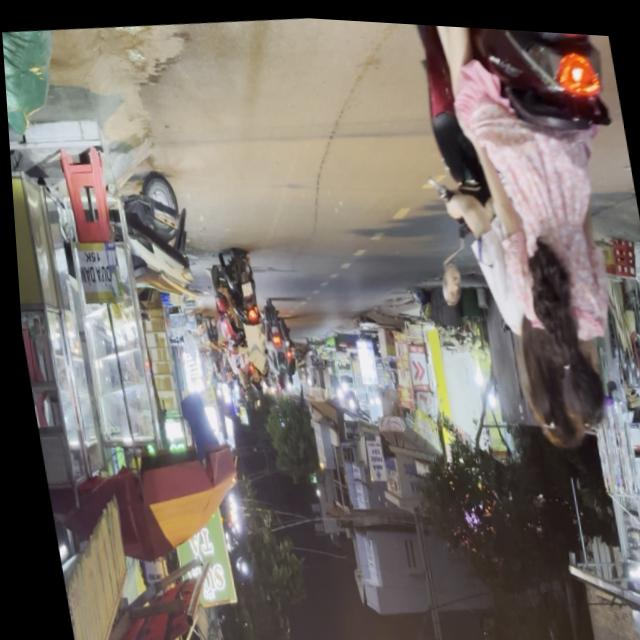licenseplate: (401, 19, 640, 462)
motorcyclist: (509, 313, 587, 449), (547, 325, 610, 427)
